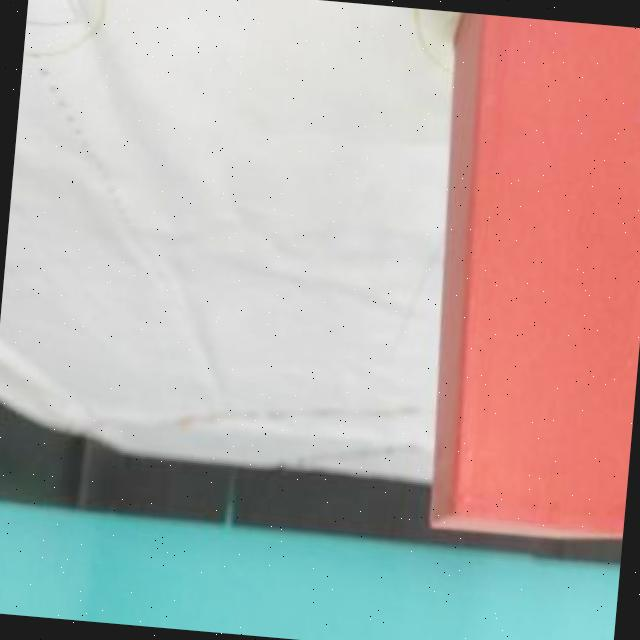redbox: (411, 11, 640, 544)
